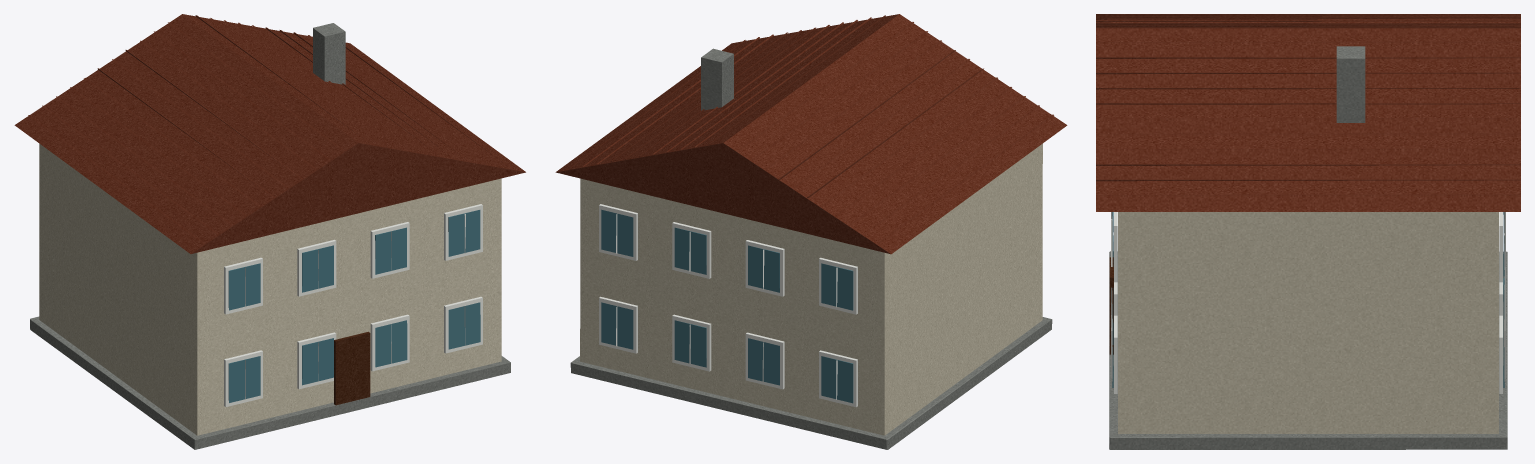
File: House_Stucco_LOD2.glb
3 renders of one model, left to right at view 1: azimuth 30°, elevation 25°; view 2: azimuth 150°, elevation 25°; view 3: azimuth 270°, elevation 25°, orthographic. The views are drawn at different scales.
Visible parts, largest first — view 1: House_Stucco_export; view 2: House_Stucco_export; view 3: House_Stucco_export.
Part boxes in pixels (left/top/right/bottom): House_Stucco_export: left=14, top=14, right=525, bottom=449; House_Stucco_export: left=555, top=14, right=1067, bottom=449; House_Stucco_export: left=1096, top=14, right=1520, bottom=449.
Bounding box in the file's own units: 11 × 9.08 × 10.
6 materials, 4 textured.
